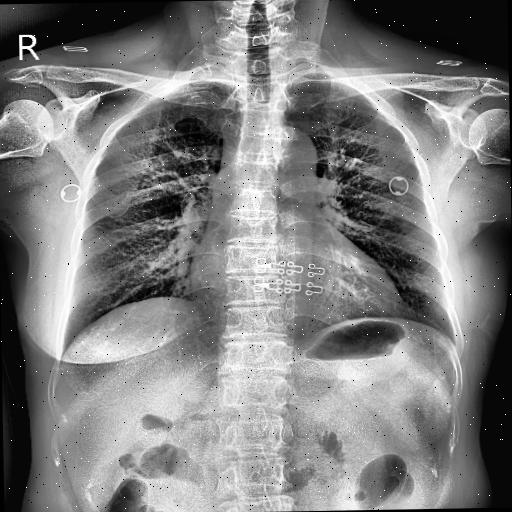0- Aortic enlargement: (262, 125, 318, 184)
3- Cardiomegaly: (190, 251, 404, 328), (189, 246, 402, 318), (188, 252, 406, 321)
